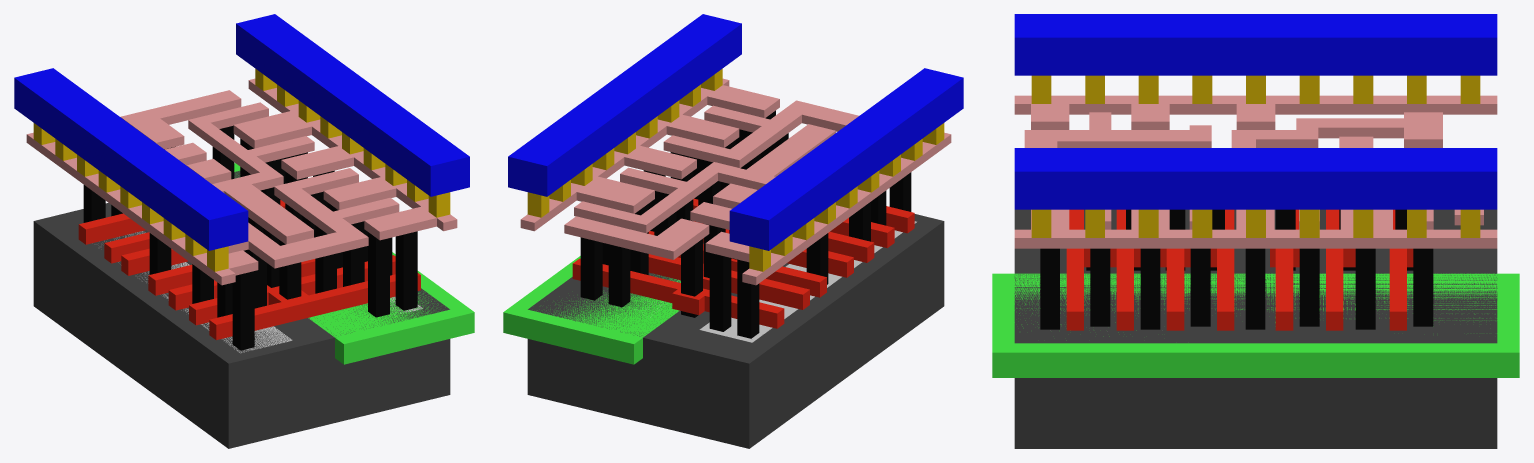
File: sky130_fd_sc_hd__and3_4.obj
The picture shows the model from 3 angles, left to right: view 1: azimuth 30°, elevation 25°; view 2: azimuth 150°, elevation 25°; view 3: azimuth 270°, elevation 25°; orthographic projection. The views are drawn at different scales.
Visible parts, largest first — view 1: subs, metal1, li, licon, poly, nwell, mcon, diff; view 2: subs, metal1, li, licon, poly, nwell, mcon, diff; view 3: metal1, subs, li, nwell, licon, poly, mcon.
Boxes of the visible parts, bbox=[...] form: subs: bbox=[33, 170, 450, 448]; metal1: bbox=[14, 14, 469, 250]; li: bbox=[26, 78, 457, 285]; licon: bbox=[83, 125, 417, 350]; poly: bbox=[78, 200, 420, 340]; nwell: bbox=[234, 163, 474, 364]; mcon: bbox=[33, 68, 450, 271]; diff: bbox=[104, 231, 292, 353]; subs: bbox=[527, 214, 944, 448]; metal1: bbox=[508, 14, 963, 250]; li: bbox=[520, 78, 951, 285]; licon: bbox=[580, 110, 911, 338]; poly: bbox=[572, 198, 914, 328]; nwell: bbox=[503, 256, 680, 364]; mcon: bbox=[527, 68, 944, 271]; diff: bbox=[699, 221, 916, 342]; metal1: bbox=[1014, 14, 1497, 209]; subs: bbox=[1014, 209, 1497, 448]; li: bbox=[1014, 95, 1497, 248]; nwell: bbox=[992, 273, 1519, 377]; licon: bbox=[1040, 209, 1433, 329]; poly: bbox=[1066, 209, 1413, 330]; mcon: bbox=[1031, 75, 1480, 237].
Bounding box in the file's own units: 3.2 × 2.74 × 4.52.
